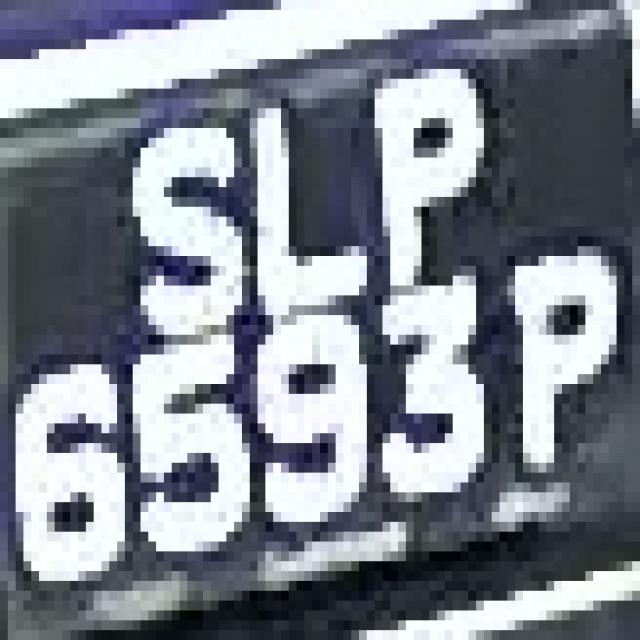3: (351, 285, 484, 522)
5: (125, 315, 250, 571)
6: (23, 325, 140, 630)
9: (258, 295, 374, 571)
L: (234, 59, 375, 305)
P: (491, 206, 640, 492), (336, 59, 500, 276)
S: (109, 138, 250, 344)
